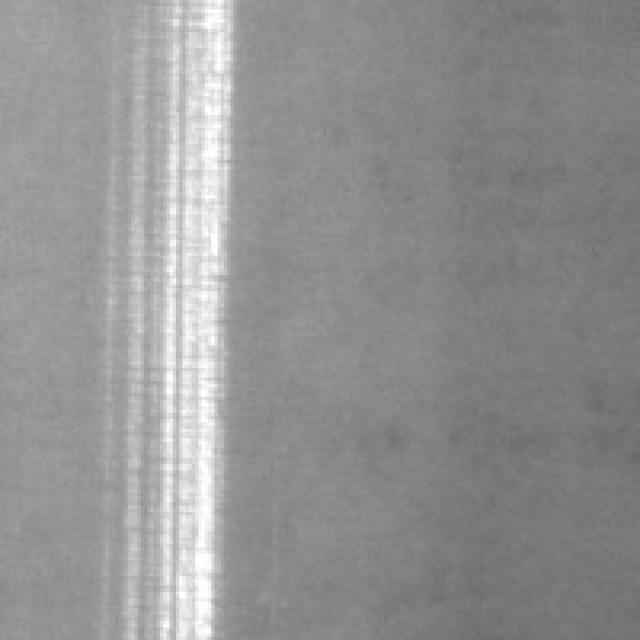scratches: (99, 0, 240, 634)
